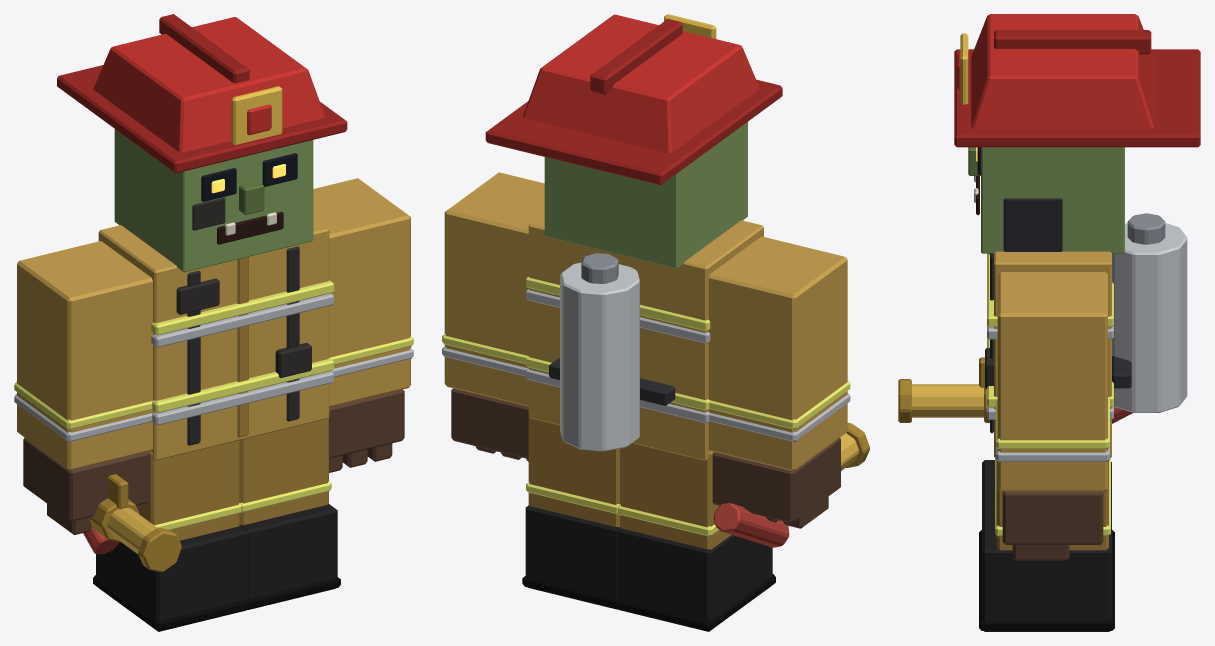
File: myw_zombiefirefighter.glb
3 views of the same model, side by side, from view 1: azimuth 30°, elevation 25°; view 2: azimuth 150°, elevation 25°; view 3: azimuth 270°, elevation 25° (orthographic). The views are drawn at different scales.
Visible parts, largest first — view 1: Torso, RightArm, Hat, LeftArm, Head, RightLeg, LeftLeg, Nozzle; view 2: Torso, RightArm, Hat, LeftArm, RightLeg, Head, LeftLeg, Nozzle; view 3: LeftArm, Hat, Torso, Head, LeftLeg, Nozzle, RightLeg.
Boxes of the visible parts, left/top/right/bottom form: Torso: left=98, top=218, right=334, bottom=460; RightArm: left=14, top=241, right=152, bottom=534; Hat: left=57, top=14, right=347, bottom=173; LeftArm: left=313, top=178, right=413, bottom=472; Head: left=114, top=129, right=313, bottom=272; RightLeg: left=93, top=440, right=250, bottom=631; LeftLeg: left=239, top=417, right=340, bottom=609; Nozzle: left=83, top=474, right=181, bottom=572; Torso: left=526, top=213, right=763, bottom=460; RightArm: left=708, top=236, right=850, bottom=528; Hat: left=485, top=14, right=782, bottom=185; LeftArm: left=442, top=172, right=544, bottom=461; RightLeg: left=615, top=443, right=775, bottom=631; Head: left=544, top=122, right=747, bottom=268; LeftLeg: left=522, top=417, right=619, bottom=609; Nozzle: left=713, top=422, right=869, bottom=547; LeftArm: left=995, top=272, right=1109, bottom=560; Hat: left=954, top=14, right=1200, bottom=147; Torso: left=985, top=213, right=1187, bottom=457; Head: left=968, top=147, right=1124, bottom=253; LeftLeg: left=979, top=460, right=1114, bottom=631; Nozzle: left=898, top=357, right=1132, bottom=423; RightLeg: left=979, top=458, right=1114, bottom=577.
Size of the model in its own units: 4.2 by 6.21 by 3.07.
